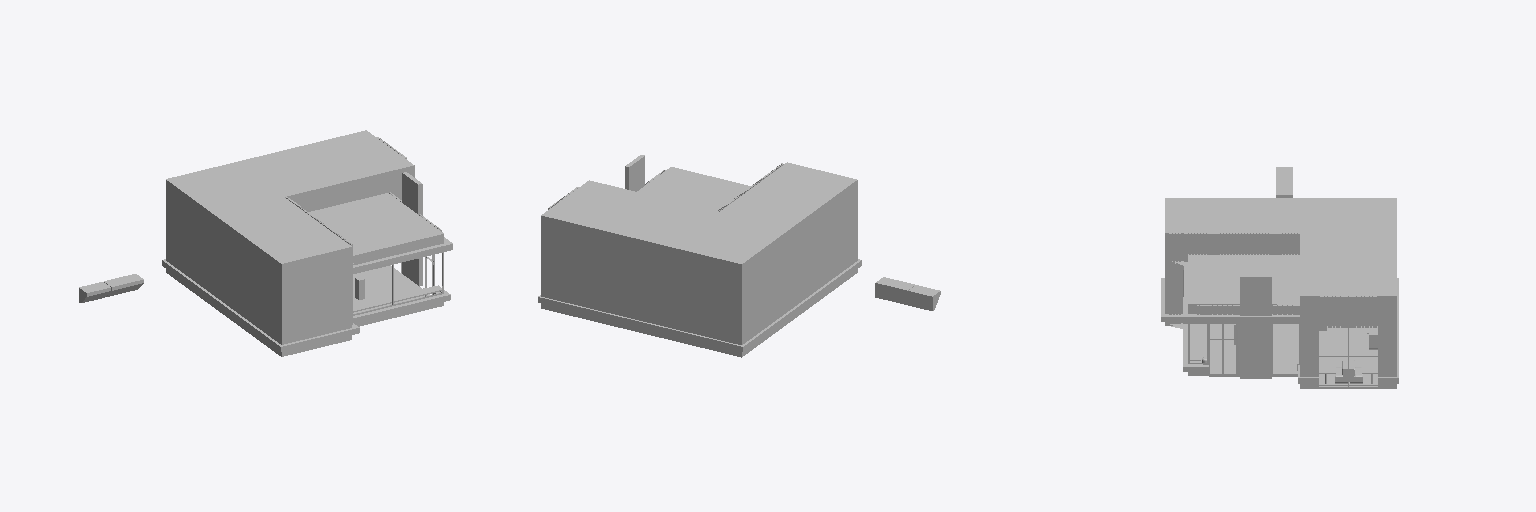
Rendered from kafevtest57.obj.
The picture shows the model from 3 angles: view 1: azimuth 30°, elevation 25°; view 2: azimuth 150°, elevation 25°; view 3: azimuth 270°, elevation 25°; orthographic projection.
Parts seen in each view (by area): view 1: blackbuild, whitebuild, noup, pollbuild, redbuild, Cube.005, Cube.012, framebuild; view 2: blackbuild, whitebuild, pollbuild, Cube.005, redbuild; view 3: blackbuild, noup, stickbuild, redbuild, whitebuild, woodbuild, Cube.008, framebuild, Cube.005.
Boxes of the visible parts, x1=… form: blackbuild: x1=166, y1=130, x2=443, y2=344; whitebuild: x1=162, y1=237, x2=452, y2=351; noup: x1=353, y1=265, x2=429, y2=313; pollbuild: x1=166, y1=259, x2=443, y2=356; redbuild: x1=402, y1=172, x2=422, y2=285; Cube.005: x1=79, y1=274, x2=143, y2=302; Cube.012: x1=353, y1=286, x2=441, y2=312; framebuild: x1=353, y1=252, x2=443, y2=315; blackbuild: x1=541, y1=162, x2=857, y2=344; whitebuild: x1=538, y1=259, x2=861, y2=351; pollbuild: x1=541, y1=269, x2=857, y2=357; Cube.005: x1=875, y1=277, x2=940, y2=310; redbuild: x1=625, y1=155, x2=644, y2=191; blackbuild: x1=1165, y1=198, x2=1396, y2=376; noup: x1=1170, y1=323, x2=1377, y2=385; stickbuild: x1=1169, y1=233, x2=1376, y2=327; redbuild: x1=1240, y1=274, x2=1271, y2=378; whitebuild: x1=1161, y1=266, x2=1398, y2=383; woodbuild: x1=1172, y1=233, x2=1377, y2=325; Cube.008: x1=1319, y1=326, x2=1377, y2=383; framebuild: x1=1188, y1=324, x2=1377, y2=388; Cube.005: x1=1276, y1=167, x2=1292, y2=197.
Size of the model in its own units: 1225 by 350 by 737.